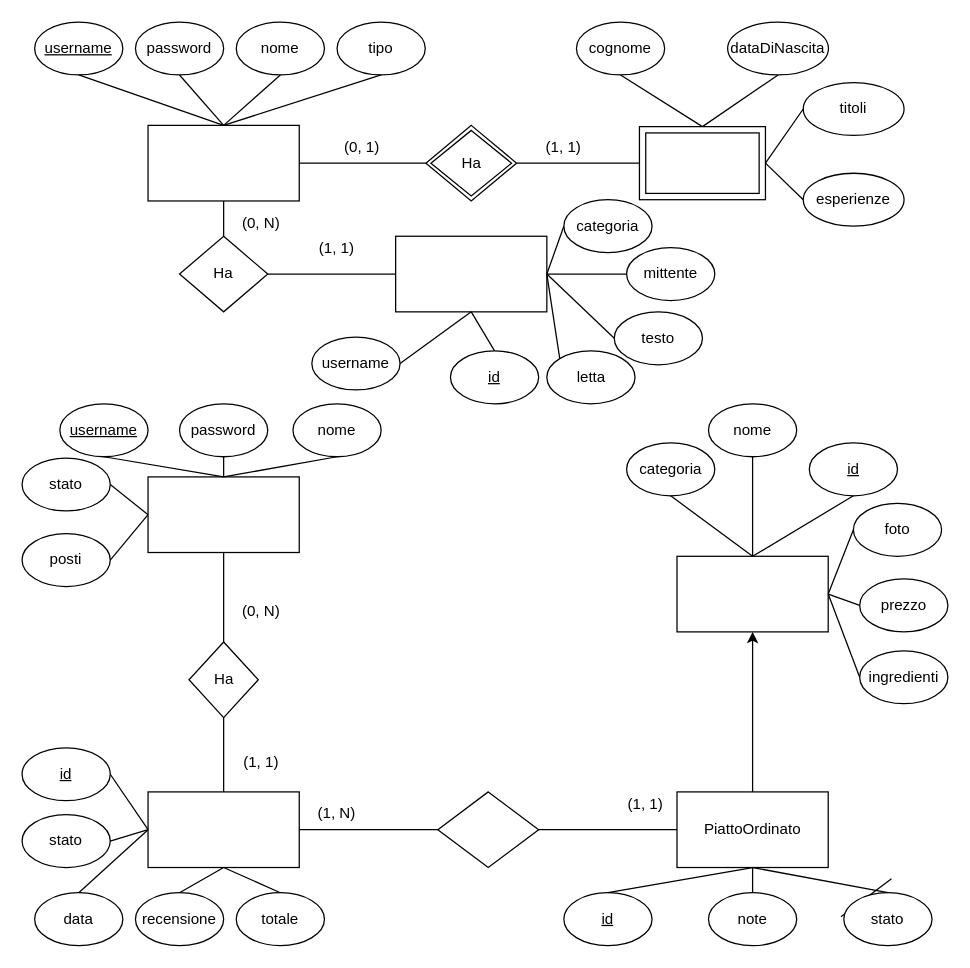
The diagram is 970 pixels wide and 968 high, and some of its shapes have lost their labels. Each missing label, with the centre of its shape:
Account: [223,162]
Anagrafica: [701,162]
Comanda: [223,829]
contiene: [488,829]
Notifica: [470,273]
Piatto: [752,593]
Tavolo: [223,514]
